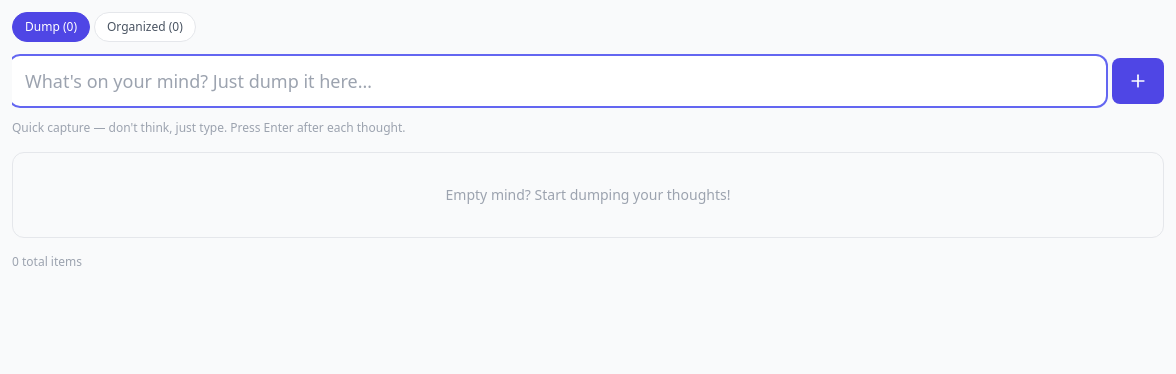
Test: BrainDumpCapture – functional › adds multiple items
Type "Item 1" into the field at (558, 81), box [12, 58, 1104, 104]
Then press Enter
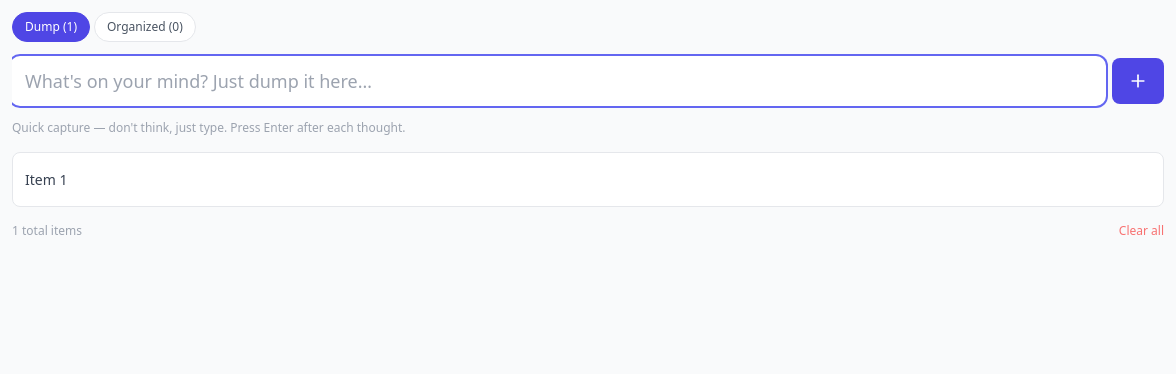
Type "Item 2" into the field at (558, 81), box [12, 58, 1104, 104]
Then press Enter
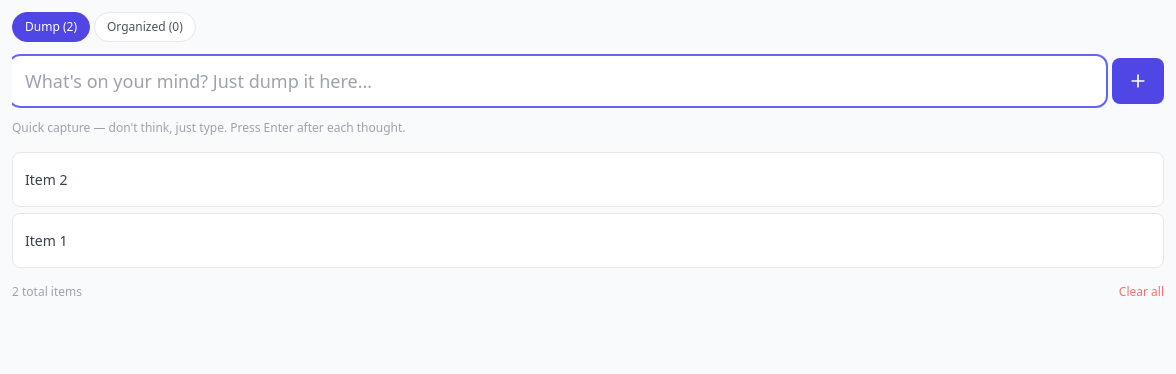
Type "Item 3" into the field at (558, 81), box [12, 58, 1104, 104]
Then press Enter
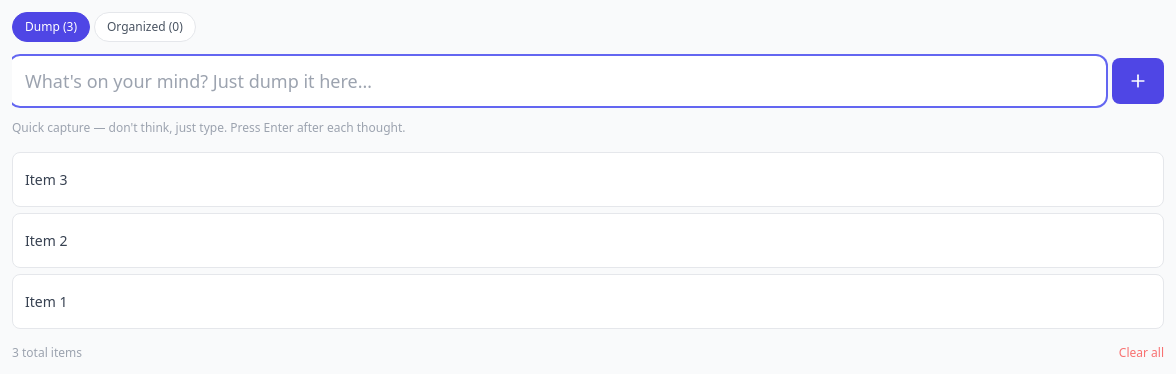
expect the text "Item 3" is shown: met, box [25, 170, 67, 188]
